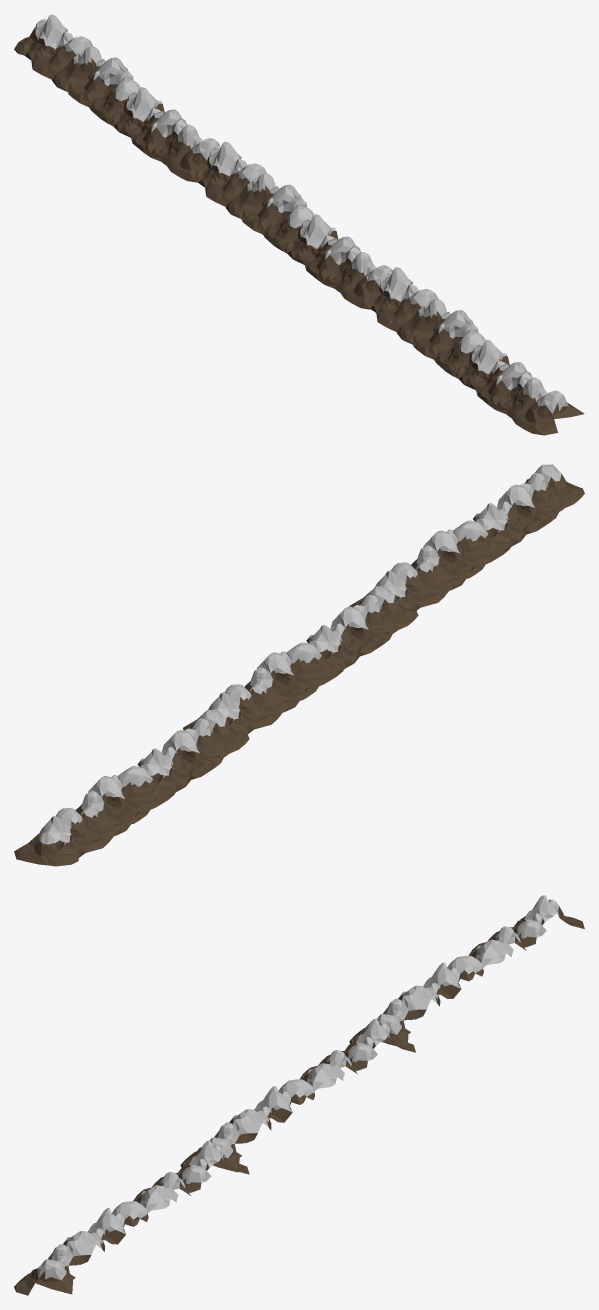
Rendered from _lvl_winter_mountains.glb.
3 views of the same model, one above another, from view 1: azimuth 30°, elevation 25°; view 2: azimuth 150°, elevation 25°; view 3: azimuth 330°, elevation 25° (orthographic). The views are drawn at different scales.
Visible parts, largest first — view 1: SM_Env_HillSnow_Far_Back (2), SM_Env_HillSnow_Far_Back, SM_Env_HillSnow_Far_Back (1); view 2: SM_Env_HillSnow_Far_Back, SM_Env_HillSnow_Far_Back (1), SM_Env_HillSnow_Far_Back (2); view 3: SM_Env_HillSnow_Far_Back (2), SM_Env_HillSnow_Far_Back, SM_Env_HillSnow_Far_Back (1).
Part boxes in pixels (x1,y1,x2,y2): SM_Env_HillSnow_Far_Back (2): (369, 267, 584, 435); SM_Env_HillSnow_Far_Back: (14, 14, 220, 182); SM_Env_HillSnow_Far_Back (1): (195, 141, 392, 309); SM_Env_HillSnow_Far_Back: (14, 710, 249, 866); SM_Env_HillSnow_Far_Back (1): (183, 586, 418, 733); SM_Env_HillSnow_Far_Back (2): (349, 464, 584, 610); SM_Env_HillSnow_Far_Back (2): (14, 1140, 249, 1295); SM_Env_HillSnow_Far_Back: (349, 895, 584, 1047); SM_Env_HillSnow_Far_Back (1): (180, 1018, 415, 1172).
Bounding box in the file's own units: 199 × 99.06 × 2765.
Materials: 1 (1 with a texture image).
